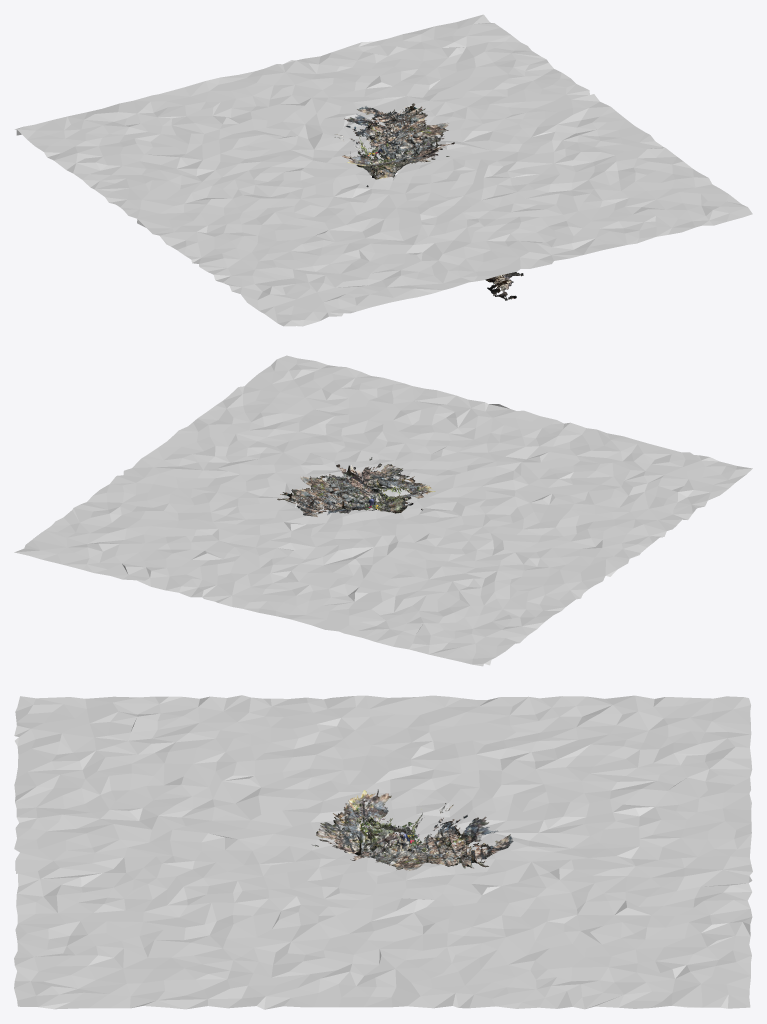
File: BuzzardCaveA-v1.glb
3 views of the same model, one above another, from view 1: azimuth 30°, elevation 25°; view 2: azimuth 150°, elevation 25°; view 3: azimuth 270°, elevation 25° (orthographic). The views are drawn at different scales.
Parts seen in each view (by area): view 1: Plane, Buzzard Cave; view 2: Plane, Buzzard Cave; view 3: Plane, Buzzard Cave.
Boxes of the visible parts, x1,y1,x2,y2 form: Plane: [15, 14, 752, 326]; Buzzard Cave: [334, 103, 523, 300]; Plane: [14, 355, 752, 666]; Buzzard Cave: [277, 457, 435, 516]; Plane: [14, 695, 752, 1009]; Buzzard Cave: [312, 789, 513, 870].
Bounding box in the file's own units: 40.35 × 7.26 × 40.28.
6 materials, 6 textured.
